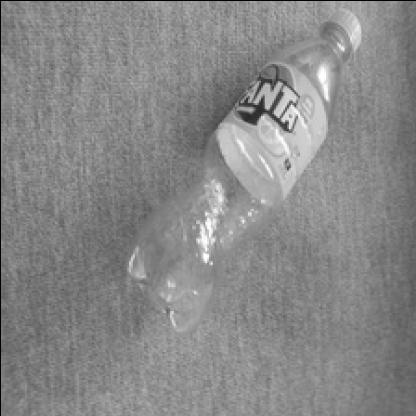plastic_bottles: (110, 0, 390, 352)
